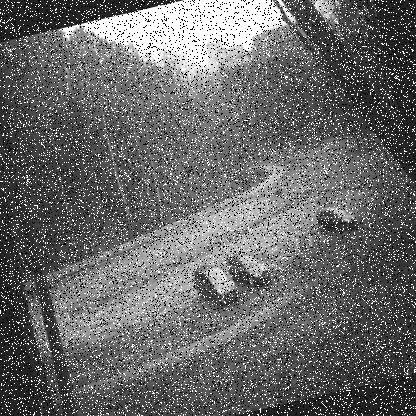Car: (223, 245, 274, 294), (190, 260, 238, 310), (314, 200, 358, 238)
